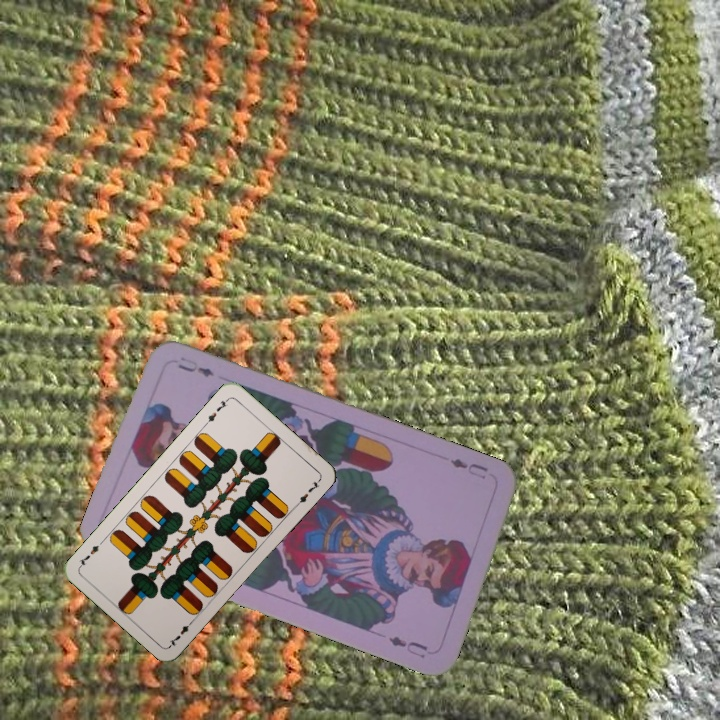E7: (200, 394, 231, 428), (166, 615, 197, 649)
EU: (445, 454, 491, 482)
